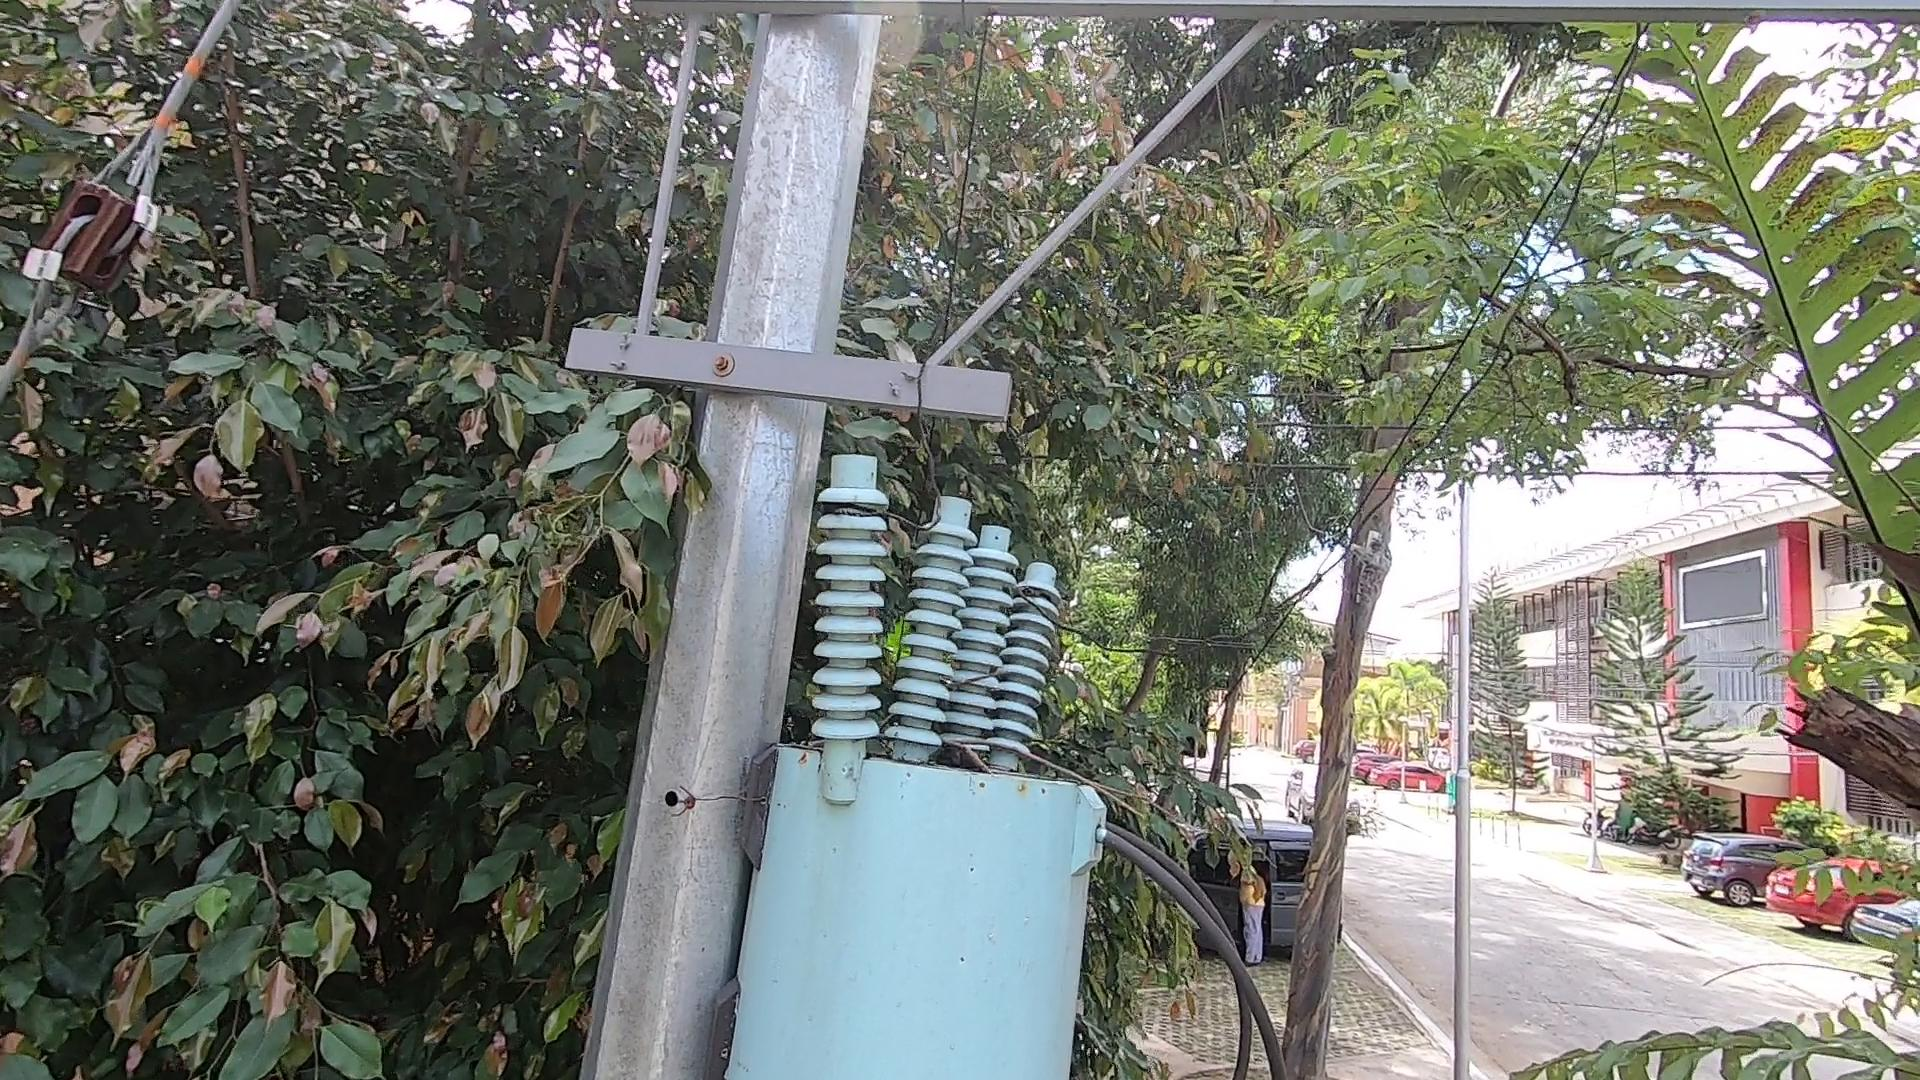leaf: (935, 735, 1004, 782)
tree branch: (861, 727, 1158, 829)
